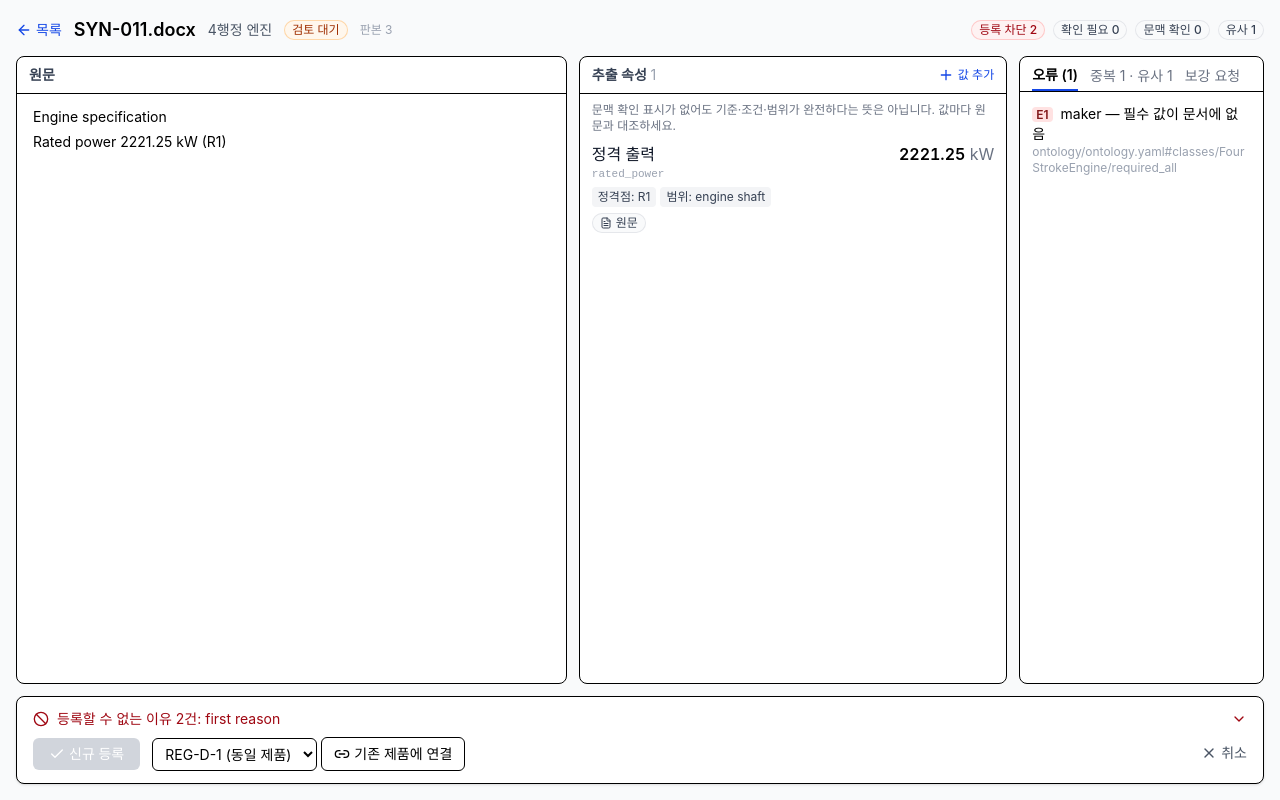
ReviewPage decisions › opens the full list of reasons registration is blocked
The image size is (1280, 800).
Click the button "등록할 수 없는 이유 2건: first reason": (116, 718) [33, 709, 1247, 729]
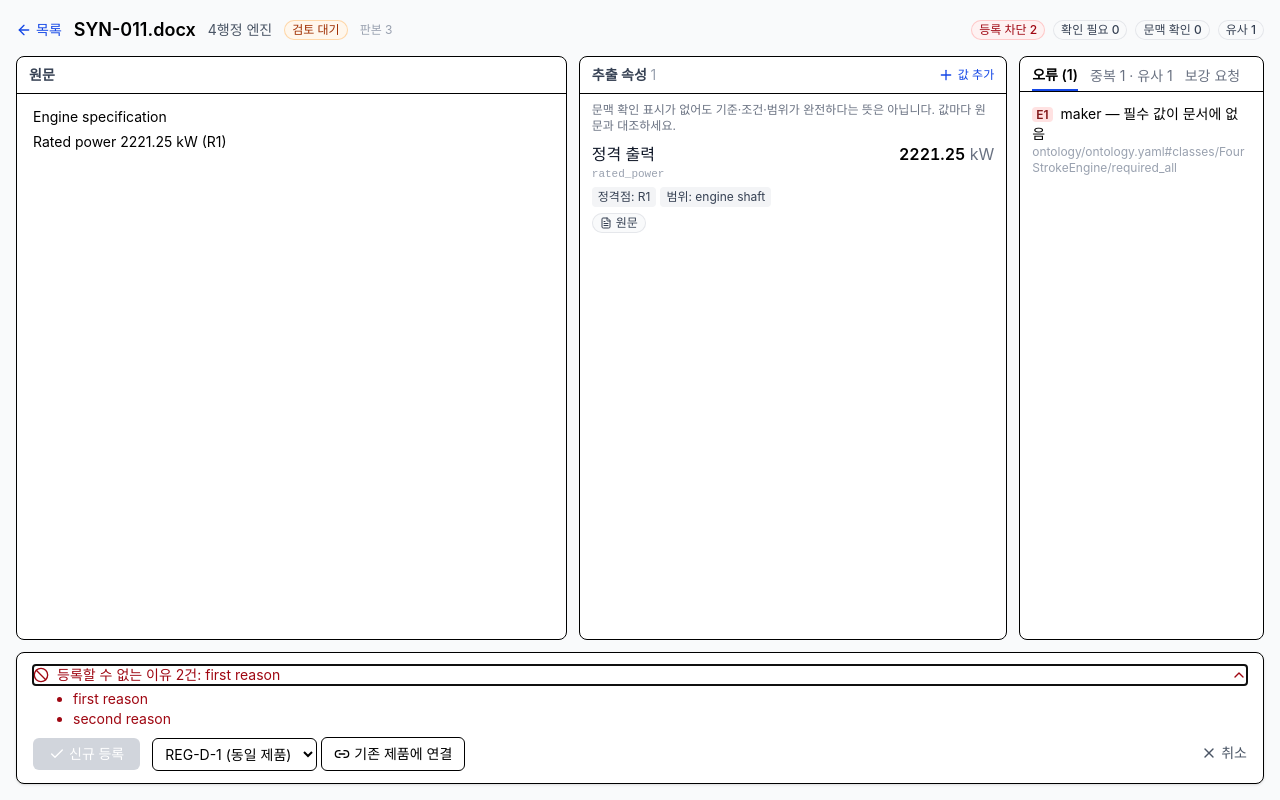
Expected: the button "등록할 수 없는 이유 2건: first reason" is expanded, [33, 665, 1247, 685]
Expected: the list items read "first reason", "second reason", in this order, [73, 690, 148, 707]; [73, 710, 171, 727]
